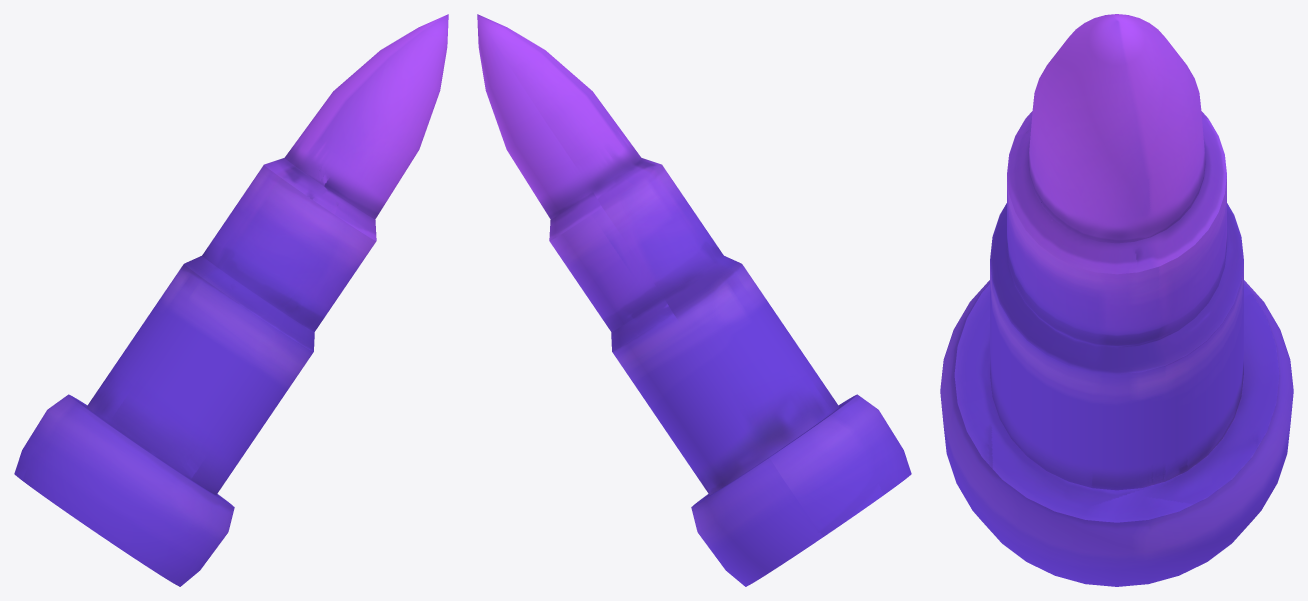
Rendered from bullet.glb.
The picture shows the model from 3 angles, left to right: view 1: azimuth 30°, elevation 25°; view 2: azimuth 150°, elevation 25°; view 3: azimuth 270°, elevation 25°; orthographic projection. The views are drawn at different scales.
Parts seen in each view (by area): view 1: Bullet; view 2: Bullet; view 3: Bullet.
Boxes of the visible parts, x1,y1,x2,y2 form: Bullet: [14, 14, 448, 586]; Bullet: [477, 14, 911, 586]; Bullet: [940, 14, 1293, 586].
Size of the model in its own units: 0.5173 by 0.5799 by 0.2354.
Materials: 1 (1 with a texture image).
